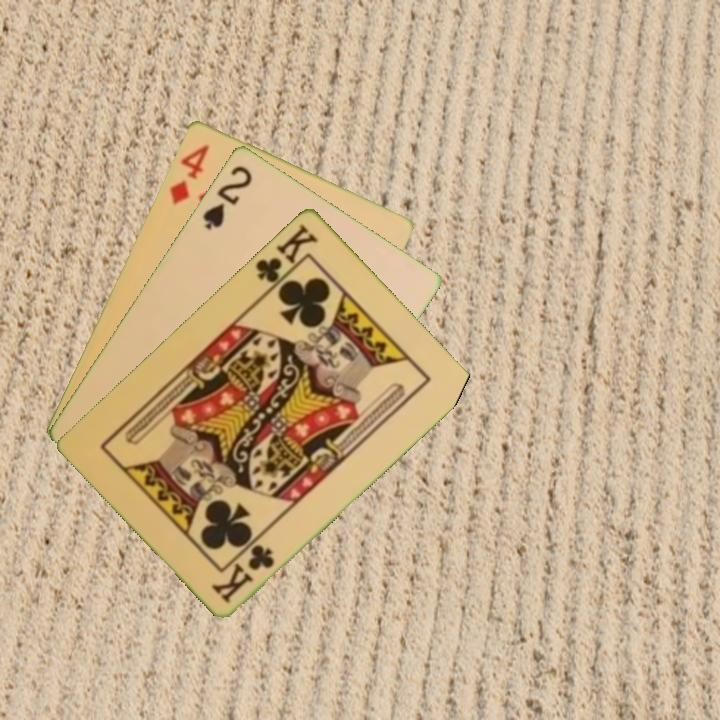2s: (199, 161, 255, 233)
4d: (166, 140, 212, 208)
Kc: (251, 219, 321, 294), (208, 540, 278, 606)
